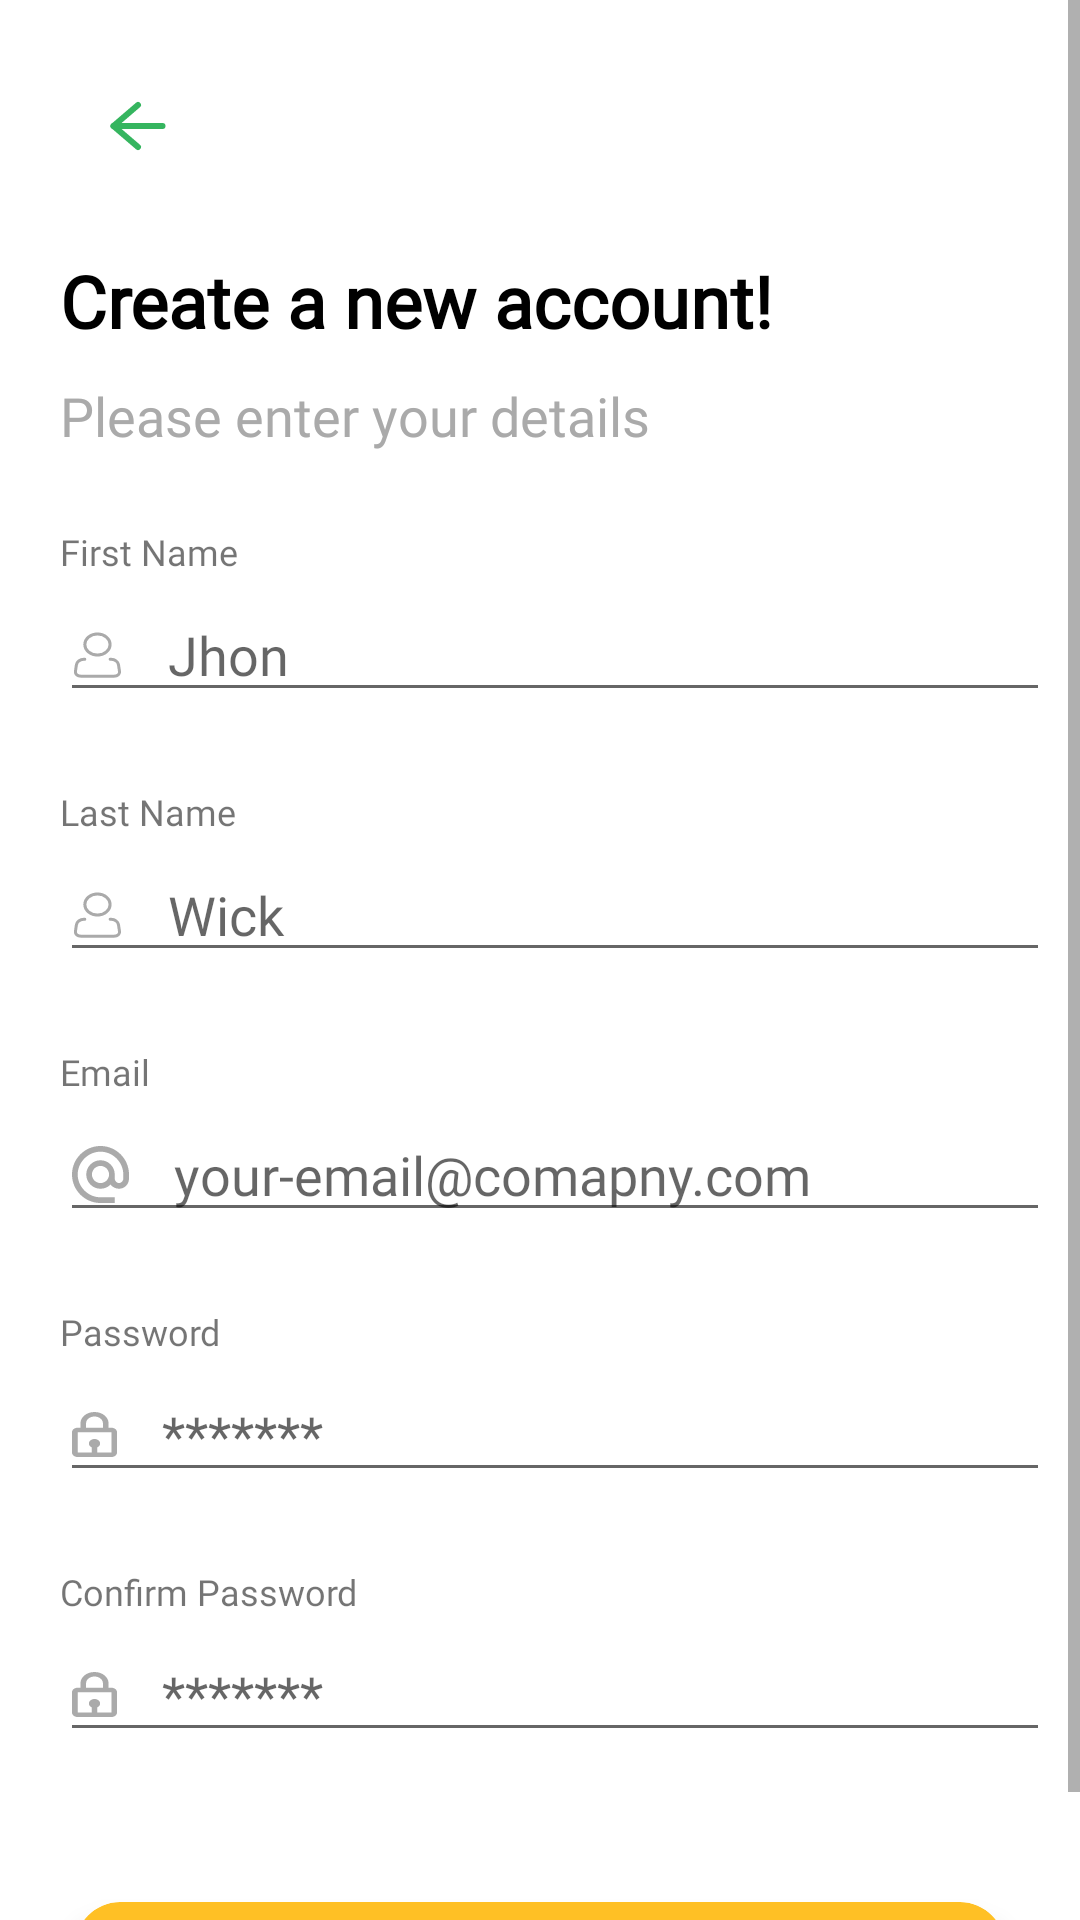

Where to tap for icons on this 1080 x 1920 app screen, as (x=x, y=y):
arrow left: (x=138, y=126)
